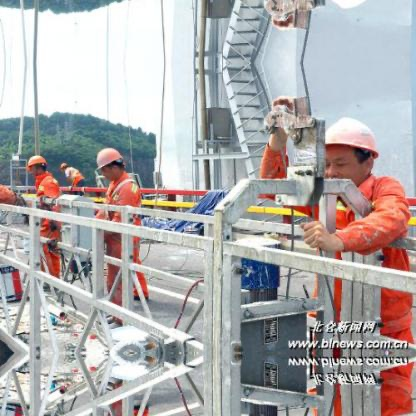Safety Helmet: (317, 114, 384, 184), (93, 144, 132, 188), (25, 152, 50, 180)
